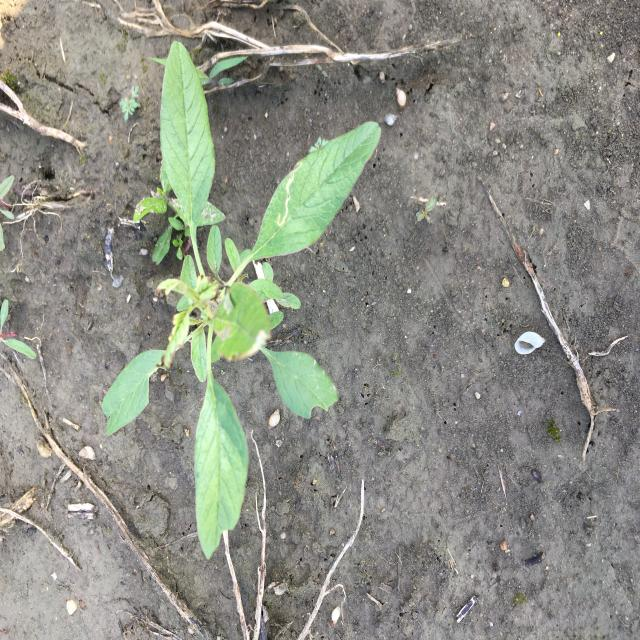Ragweed: (118, 85, 142, 122)
Waterhemp: (96, 36, 385, 567), (1, 298, 38, 364)
